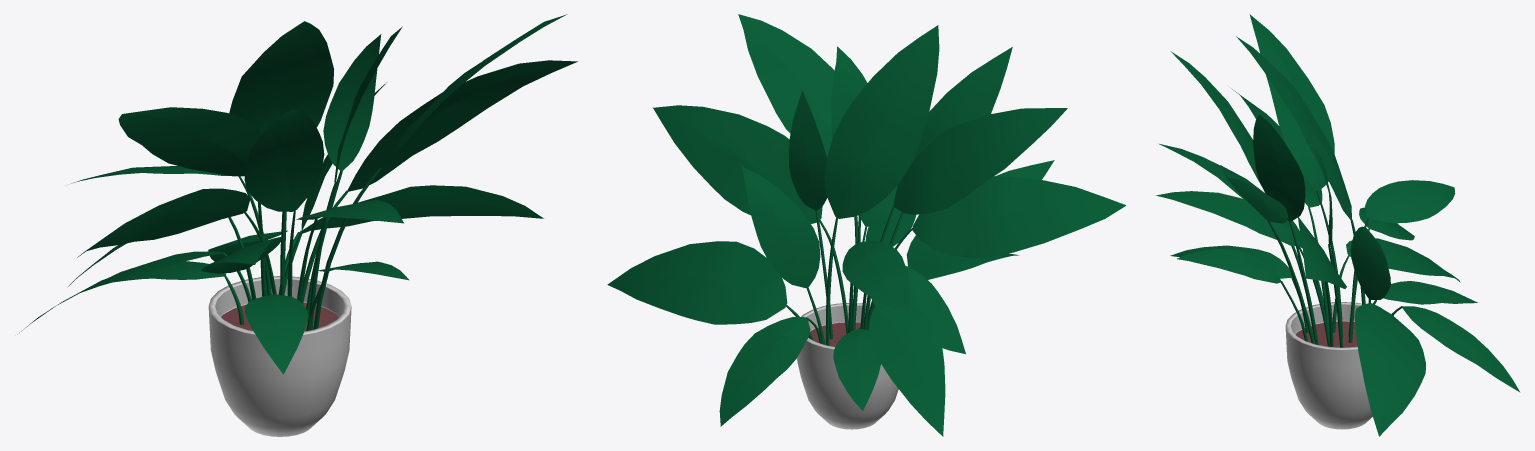
File: flower_1.fbx
The picture shows the model from 3 angles, left to right: view 1: azimuth 30°, elevation 25°; view 2: azimuth 150°, elevation 25°; view 3: azimuth 270°, elevation 25°; orthographic projection. The views are drawn at different scales.
Parts seen in each view (by area): view 1: 02; view 2: 02; view 3: 02.
Part boxes in pixels (bbox=[...]): 02: bbox=[17, 14, 577, 436]; 02: bbox=[607, 14, 1126, 436]; 02: bbox=[1156, 14, 1520, 436].
Bounding box in the file's own units: 262 × 205 × 185.
